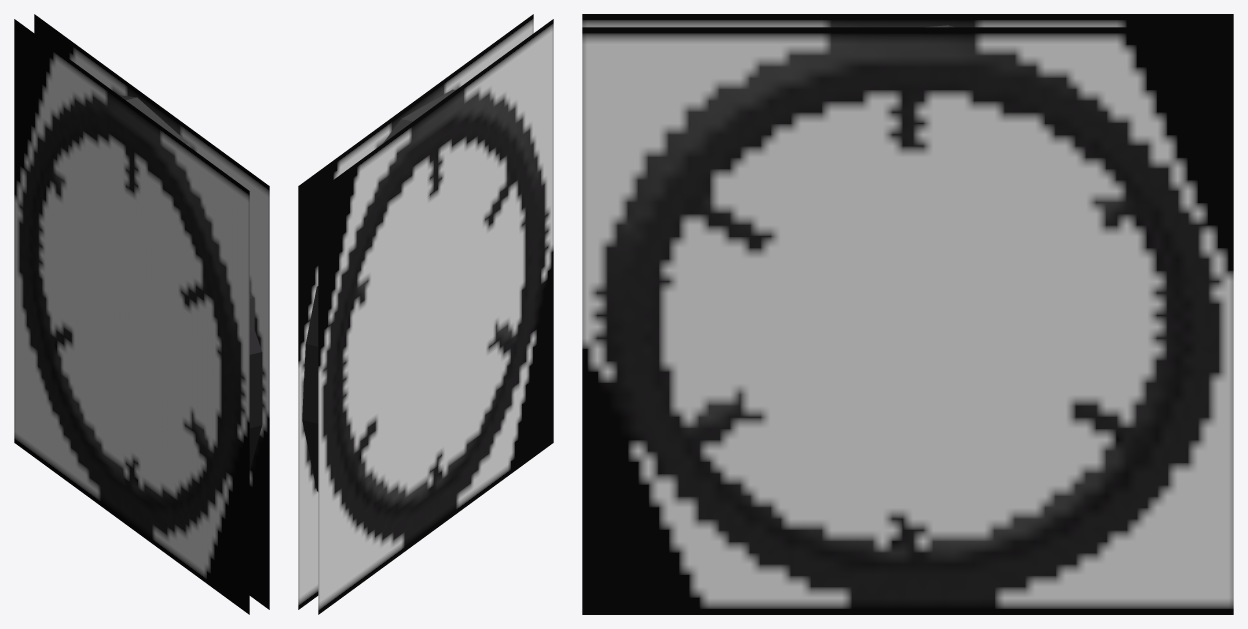
File: pz_native_fixtures_windows_metal_118_frame.obj
3 renders of one model, left to right at view 1: azimuth 30°, elevation 25°; view 2: azimuth 150°, elevation 25°; view 3: azimuth 270°, elevation 25°, orthographic. The views are drawn at different scales.
Parts seen in each view (by area): view 1: pz_native_fixtures_windows_metal_118_frame; view 2: pz_native_fixtures_windows_metal_118_frame; view 3: pz_native_fixtures_windows_metal_118_frame.
Boxes of the visible parts, x1=… form: pz_native_fixtures_windows_metal_118_frame: x1=14, y1=14, x2=269, y2=614; pz_native_fixtures_windows_metal_118_frame: x1=298, y1=14, x2=553, y2=614; pz_native_fixtures_windows_metal_118_frame: x1=582, y1=14, x2=1233, y2=614.
Bounding box in the file's own units: 0.04 × 0.8125 × 0.8165.
1 material, 1 textured.
